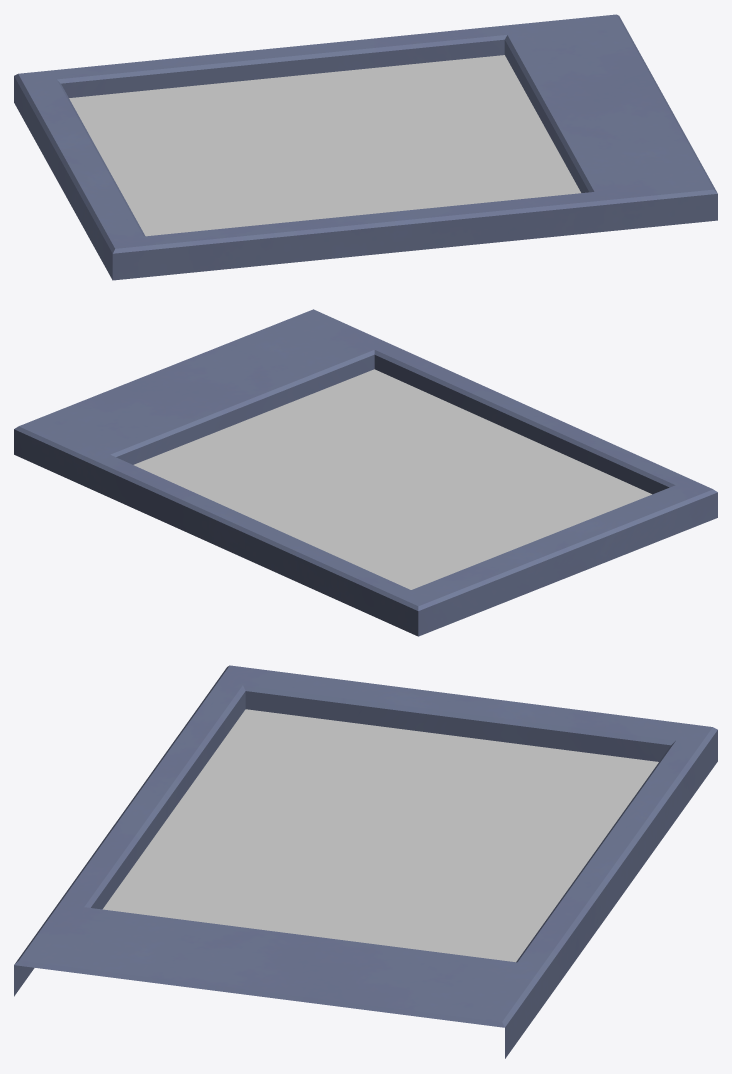
The model's file is pad 1.fbx.
The picture shows the model from 3 angles, top to bottom: view 1: azimuth 30°, elevation 25°; view 2: azimuth 150°, elevation 25°; view 3: azimuth 270°, elevation 25°; orthographic projection. The views are drawn at different scales.
Parts seen in each view (by area): view 1: pasted__polySurface63, pasted__polySurface2859; view 2: pasted__polySurface63, pasted__polySurface2859; view 3: pasted__polySurface2859, pasted__polySurface63.
Part boxes in pixels (box(x1,y1,x2,y2)): pasted__polySurface63: box(14, 14, 717, 280); pasted__polySurface2859: box(69, 55, 580, 236); pasted__polySurface63: box(14, 309, 717, 636); pasted__polySurface2859: box(134, 369, 651, 589); pasted__polySurface2859: box(102, 709, 658, 962); pasted__polySurface63: box(14, 665, 717, 1058).
Size of the model in its own units: 7.79 by 0.3567 by 6.42.
